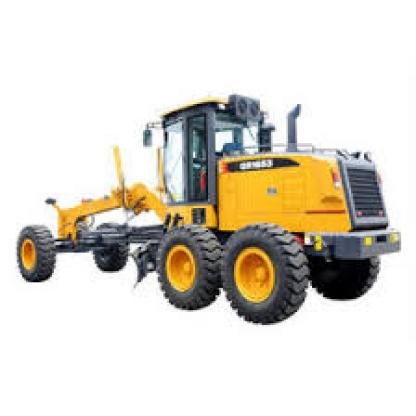bull_dozer/loader/grader: (2, 86, 407, 330)
